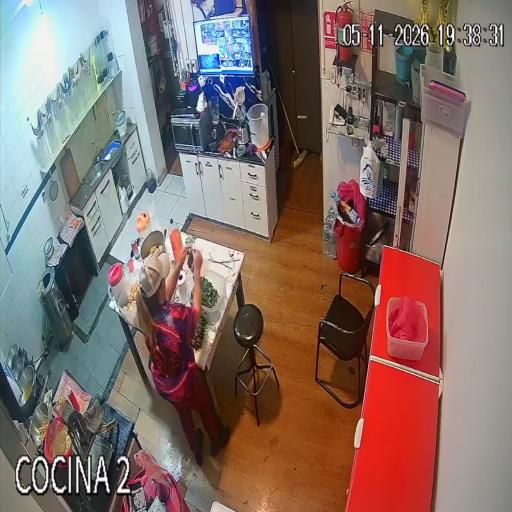Balde: (247, 103, 270, 150)
Envase Ketchup: (67, 387, 79, 410)
Envase Llajua: (58, 395, 66, 412)
Jarra1: (108, 263, 127, 302)
Jarra2: (136, 211, 151, 236)
Microondas: (171, 111, 212, 151)
Persona2: (136, 247, 230, 465)
Taper: (188, 272, 225, 326)
Taper2: (117, 267, 139, 325)
Taper4: (386, 296, 428, 360)
olla1: (139, 230, 166, 260)
